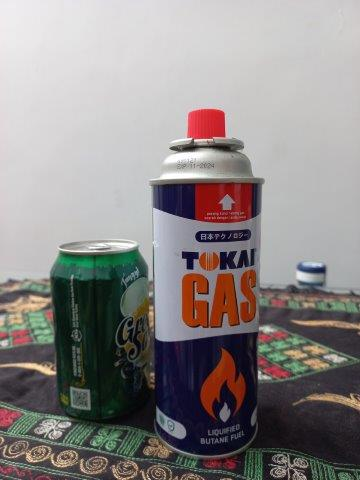kaleng: (151, 110, 267, 454), (50, 240, 149, 424)
